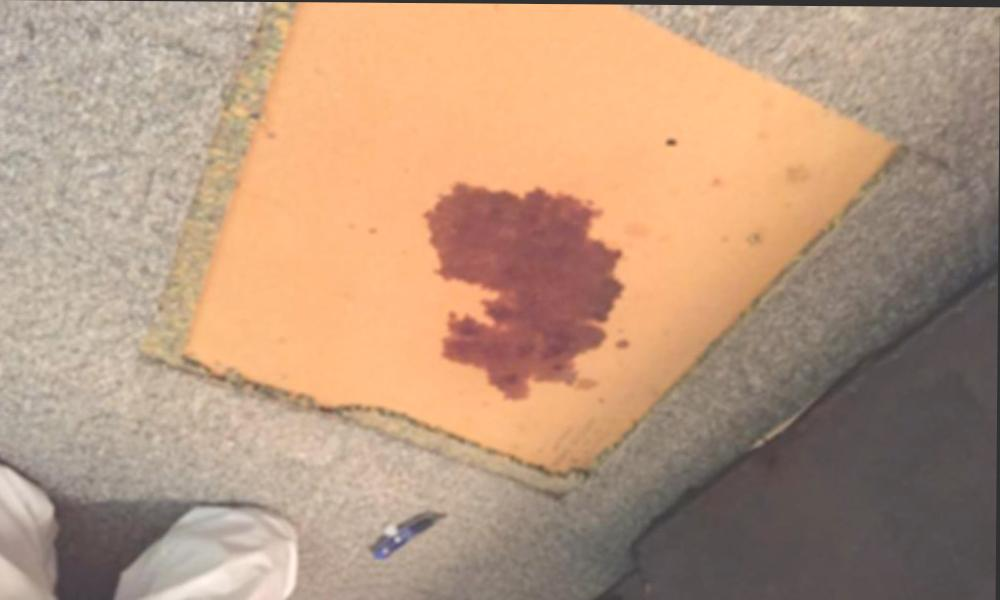Fire: (424, 182, 626, 400)
